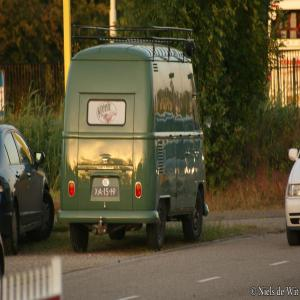Vehicle-registration-plate: (93, 187, 119, 198)
